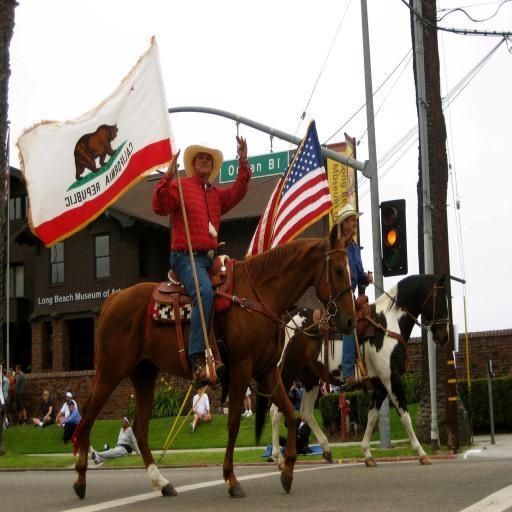horse: (72, 224, 354, 498), (271, 274, 452, 466)
